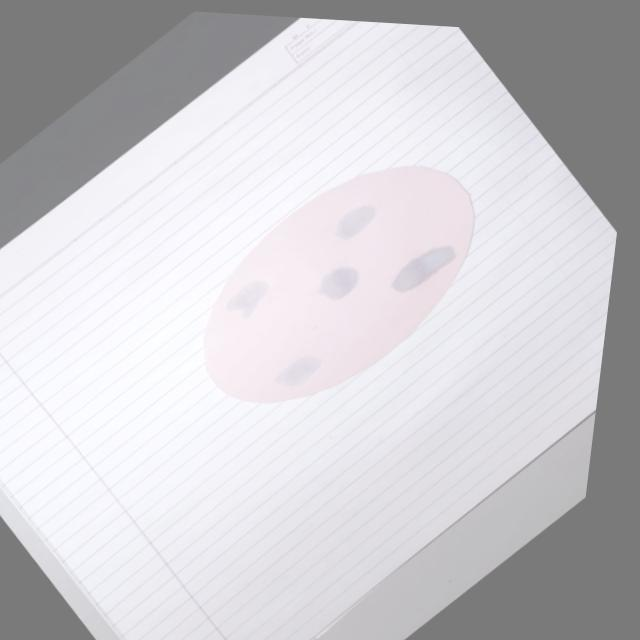BlueColor: (392, 246, 456, 292), (227, 281, 268, 317), (336, 205, 375, 240), (275, 356, 320, 386), (320, 267, 358, 300)
